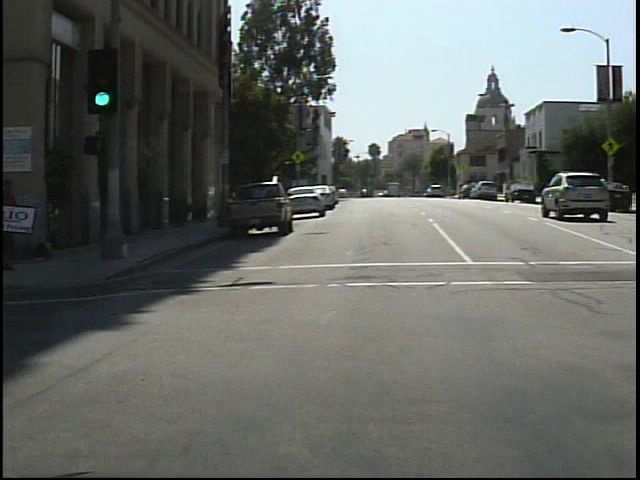person: (2, 162, 25, 279)
